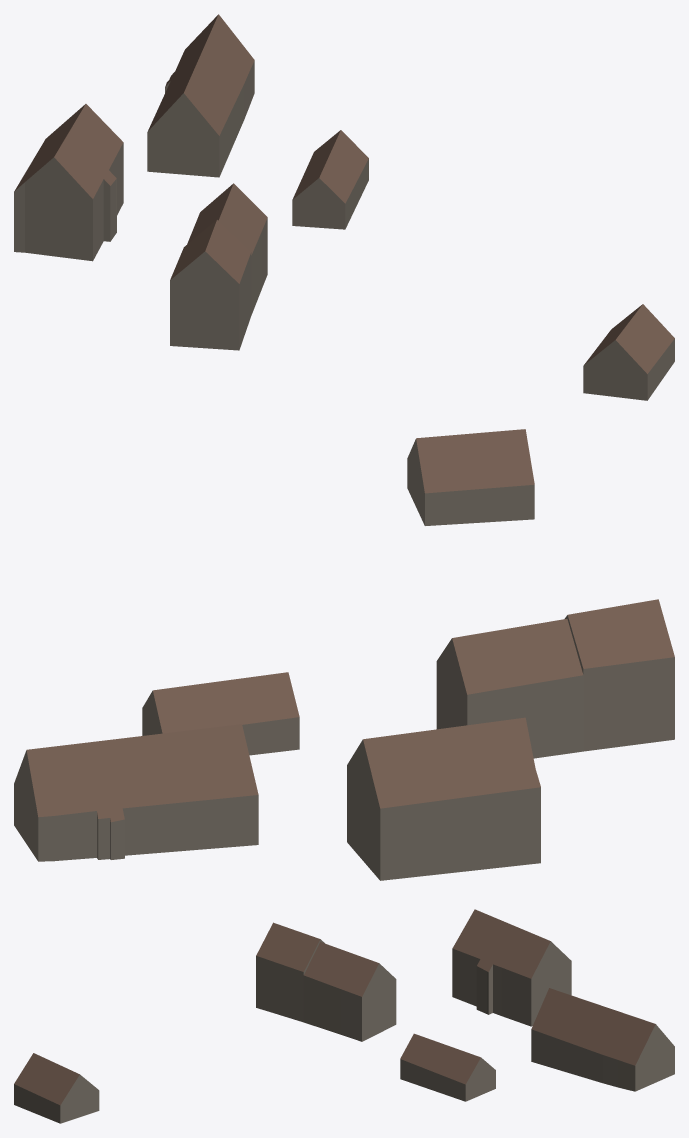
3 views of the same model, one above another, from view 1: azimuth 30°, elevation 25°; view 2: azimuth 150°, elevation 25°; view 3: azimuth 270°, elevation 25° (orthographic). The views are drawn at different scales.
Bounding box in the file's own units: 52.51 × 13.52 × 99.74.
